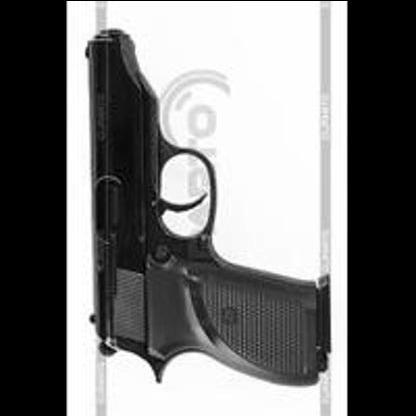weapon: (80, 25, 337, 399)
